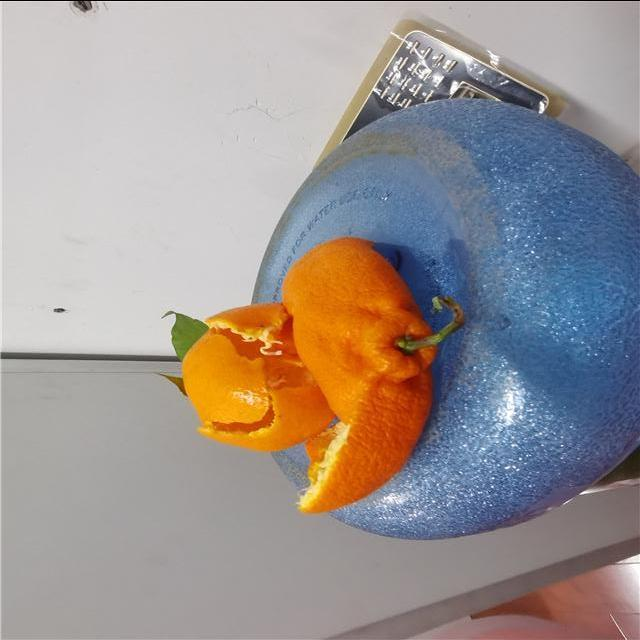orange peel: (289, 238, 437, 514), (179, 300, 335, 452)
